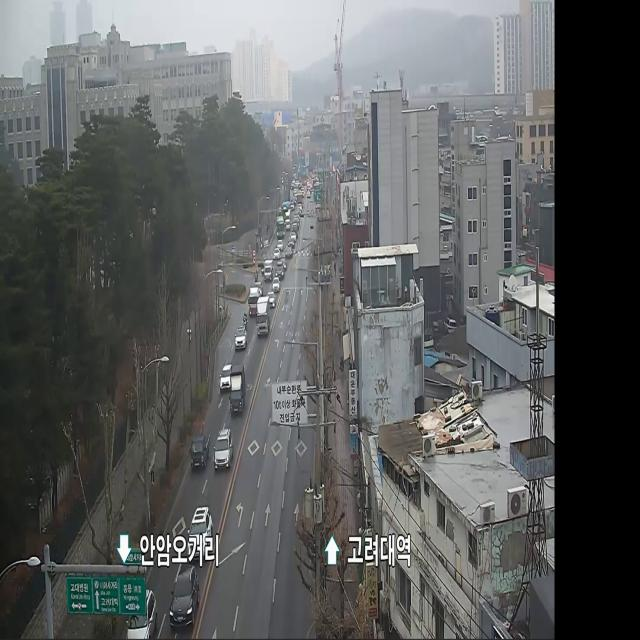bus: (242, 309, 248, 333), (260, 260, 265, 278), (254, 268, 258, 286)
car: (277, 214, 284, 238)
motorcycle: (168, 561, 200, 633), (125, 588, 157, 640), (188, 502, 213, 563), (213, 425, 234, 471), (220, 360, 232, 391), (236, 325, 247, 353), (266, 289, 276, 310), (276, 260, 284, 280), (272, 275, 280, 293), (272, 248, 282, 261), (289, 230, 297, 243), (276, 238, 284, 250), (286, 248, 293, 260), (288, 238, 295, 250)
truck: (229, 365, 246, 417), (190, 430, 210, 471), (256, 296, 270, 337), (248, 280, 263, 316), (264, 258, 274, 283)
